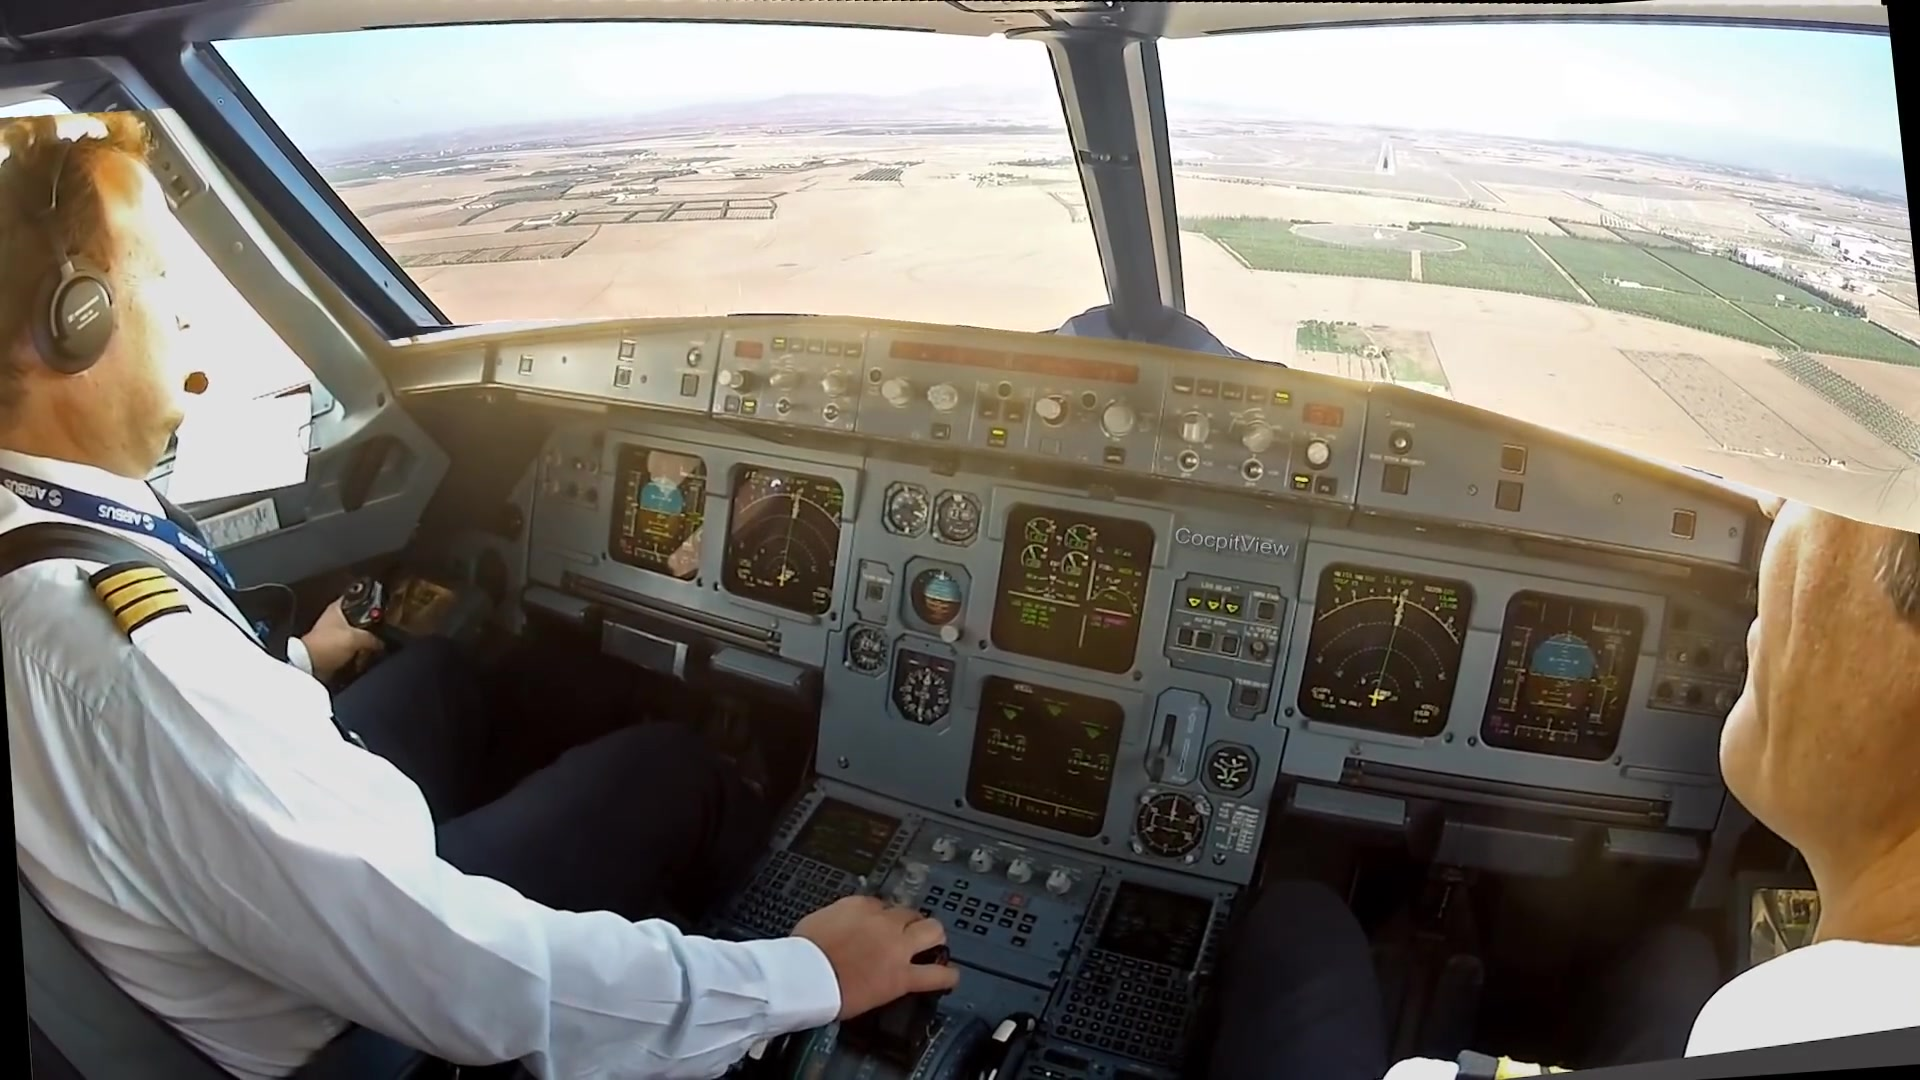runway: (1371, 136, 1402, 177)
